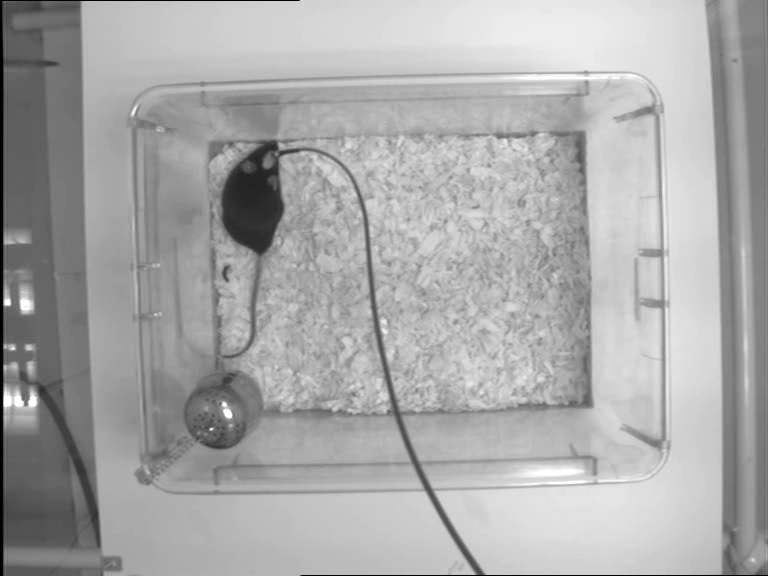mice: (216, 139, 283, 362)
